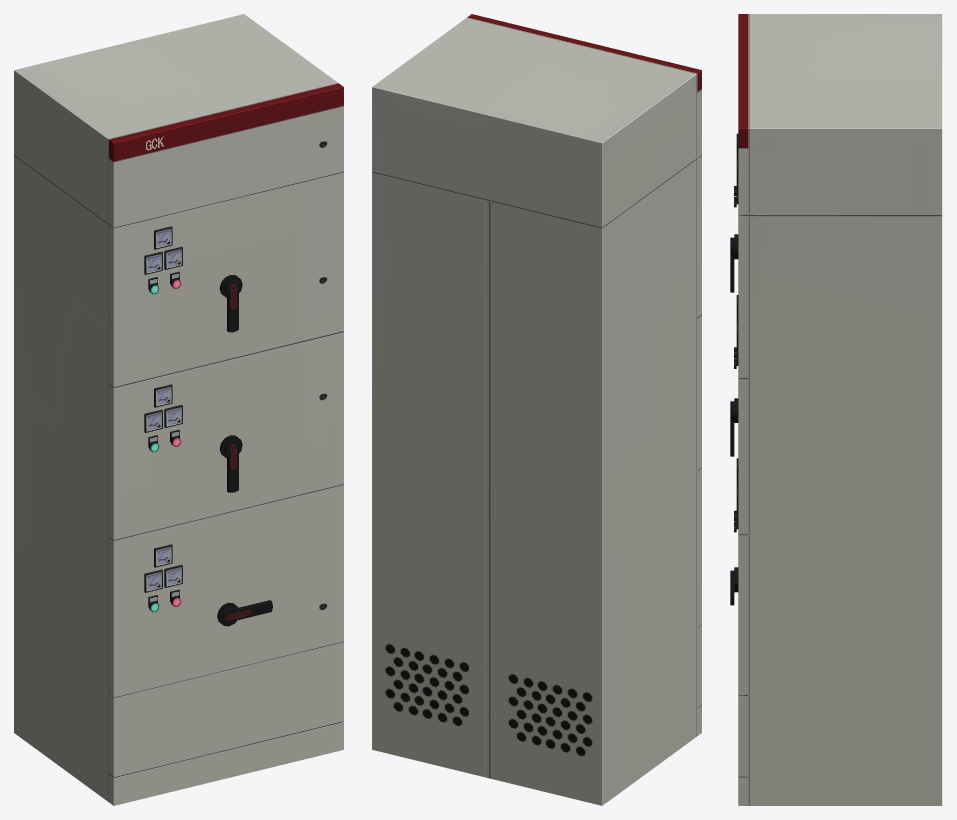
3 renders of one model, left to right at view 1: azimuth 30°, elevation 25°; view 2: azimuth 150°, elevation 25°; view 3: azimuth 270°, elevation 25°, orthographic. The views are drawn at different scales.
Parts seen in each view (by area): view 1: Lo-BODY_01; view 2: Lo-BODY_01, Lo-PRINT_01; view 3: Lo-BODY_01.
Part boxes in pixels (box(x1,y1,x2,y2)): Lo-BODY_01: box(14, 14, 343, 805); Lo-BODY_01: box(372, 14, 701, 805); Lo-PRINT_01: box(385, 644, 592, 756); Lo-BODY_01: box(730, 14, 942, 805).
Bounding box in the file's own units: 0.8 × 2.2 × 0.625.
2 materials, 2 textured.
